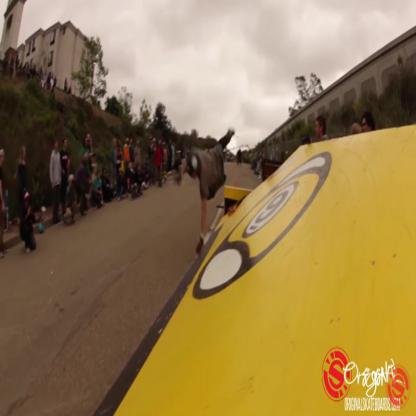Fall_Down: (174, 125, 239, 262)
